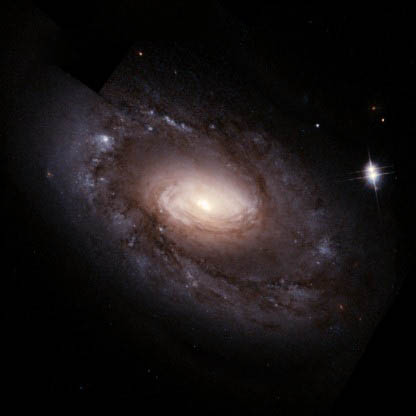NGC 4102: (33, 59, 395, 343)
